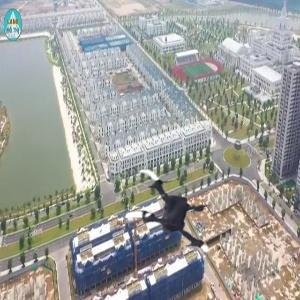drone: (110, 162, 222, 274)
